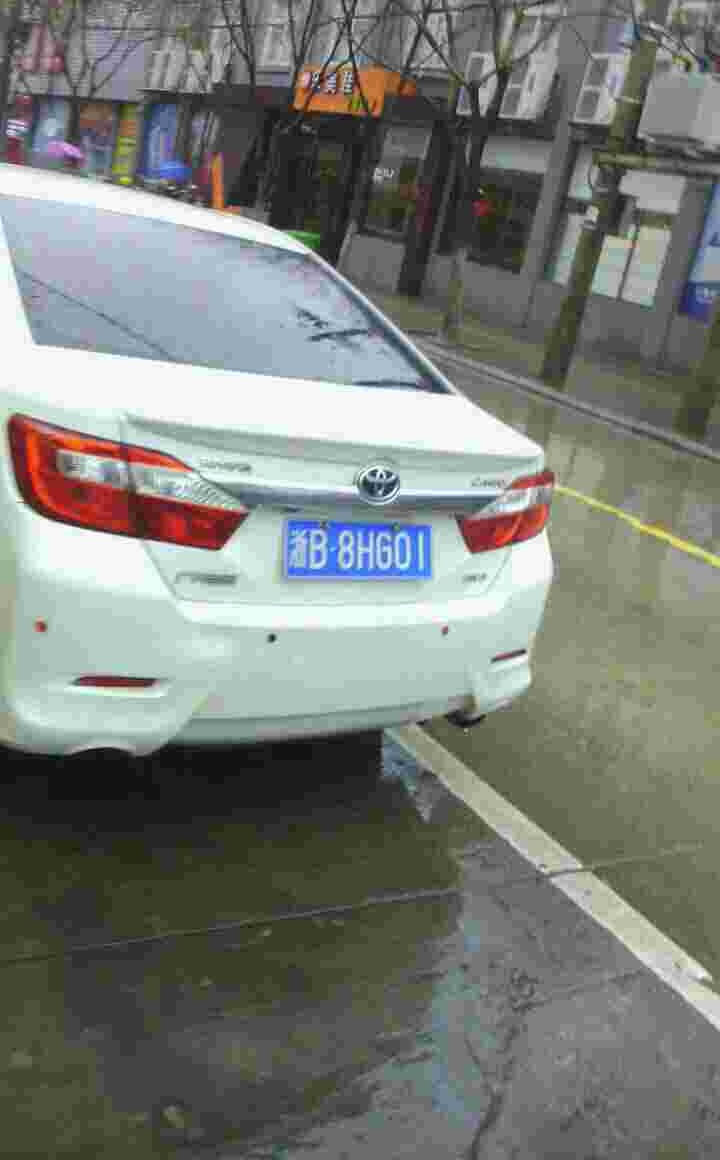plate: (261, 489, 454, 601)
